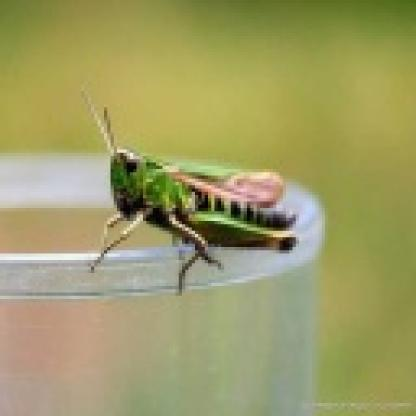grasshopper: (76, 93, 310, 285)
